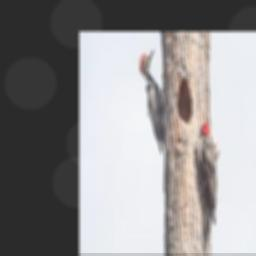Woodpecker: (139, 47, 165, 154), (197, 122, 217, 254)
